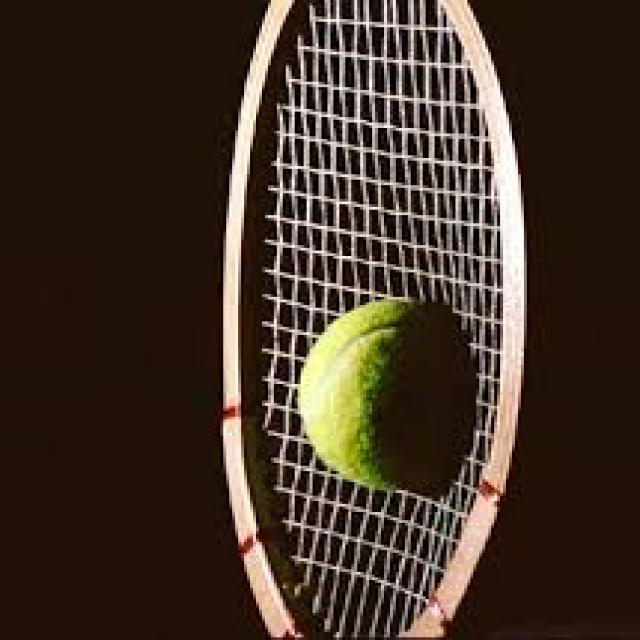Tennis-Ball: (300, 297, 471, 496)
